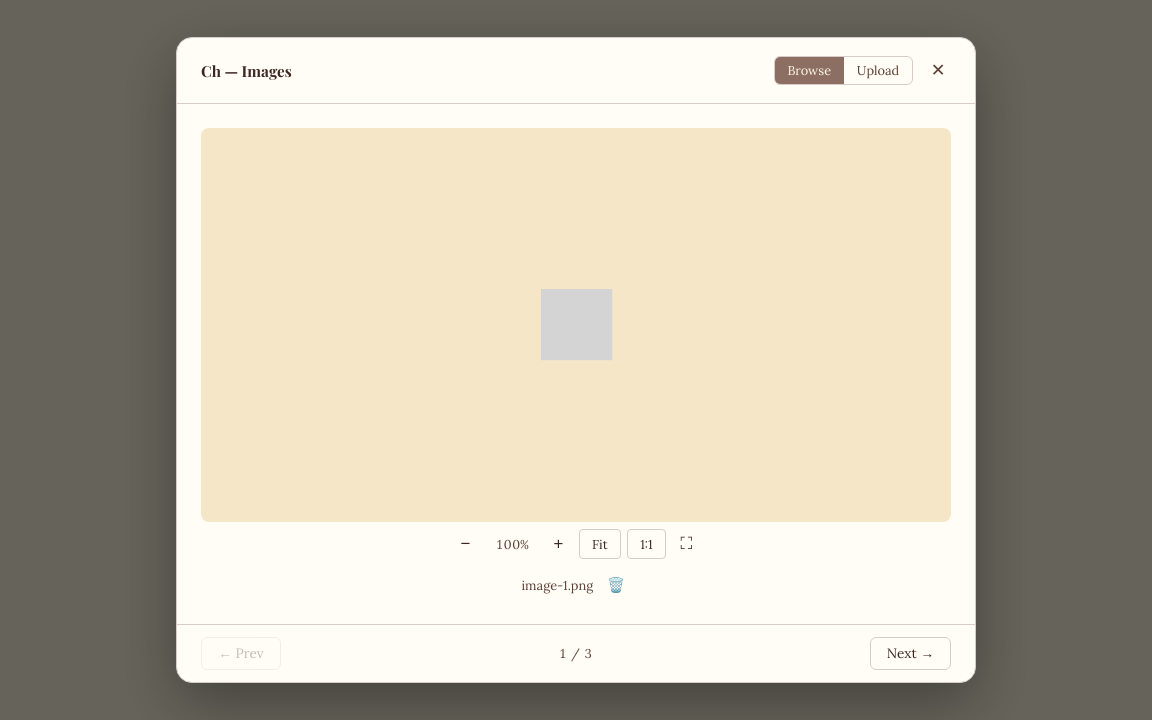
Scenario: ChapterImageViewer › keeps the current position when a deleted image was not the last one
This screenshot has width=1152, height=720.
Expected: the text "image-1.png" is shown, [522,577,593,594]
Click the button titled "Delete image": point(616, 586) [601,572,630,600]
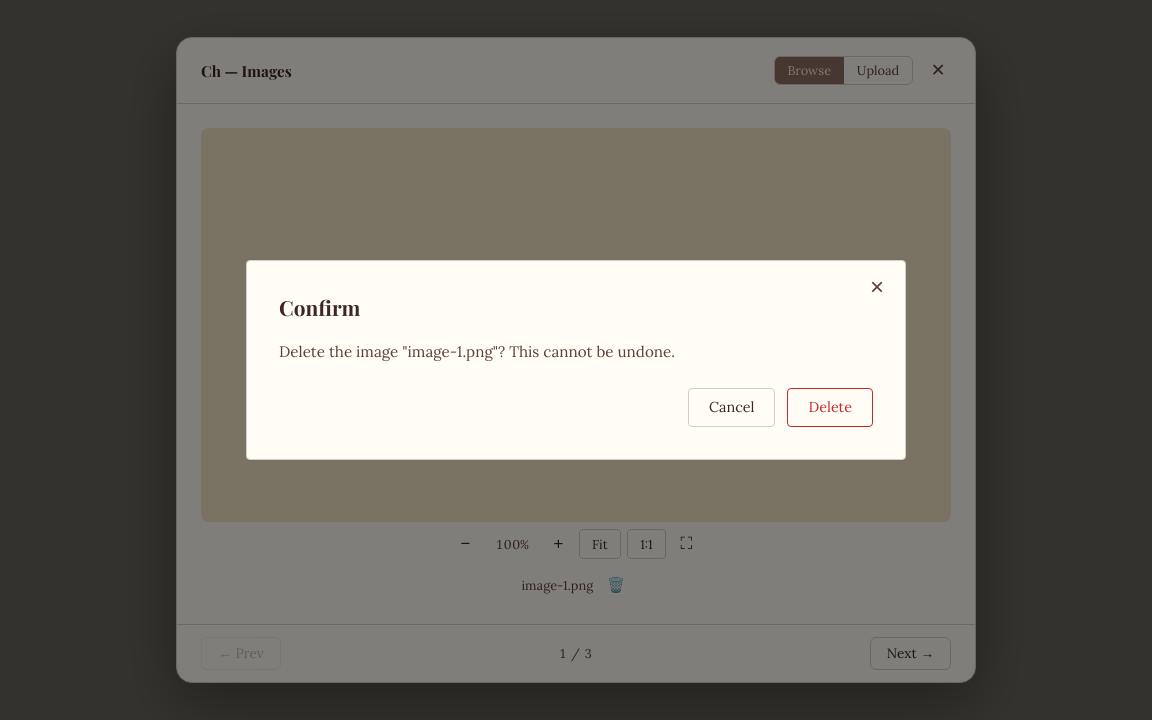
Click the button "Delete": point(830, 407) [788,388,873,427]
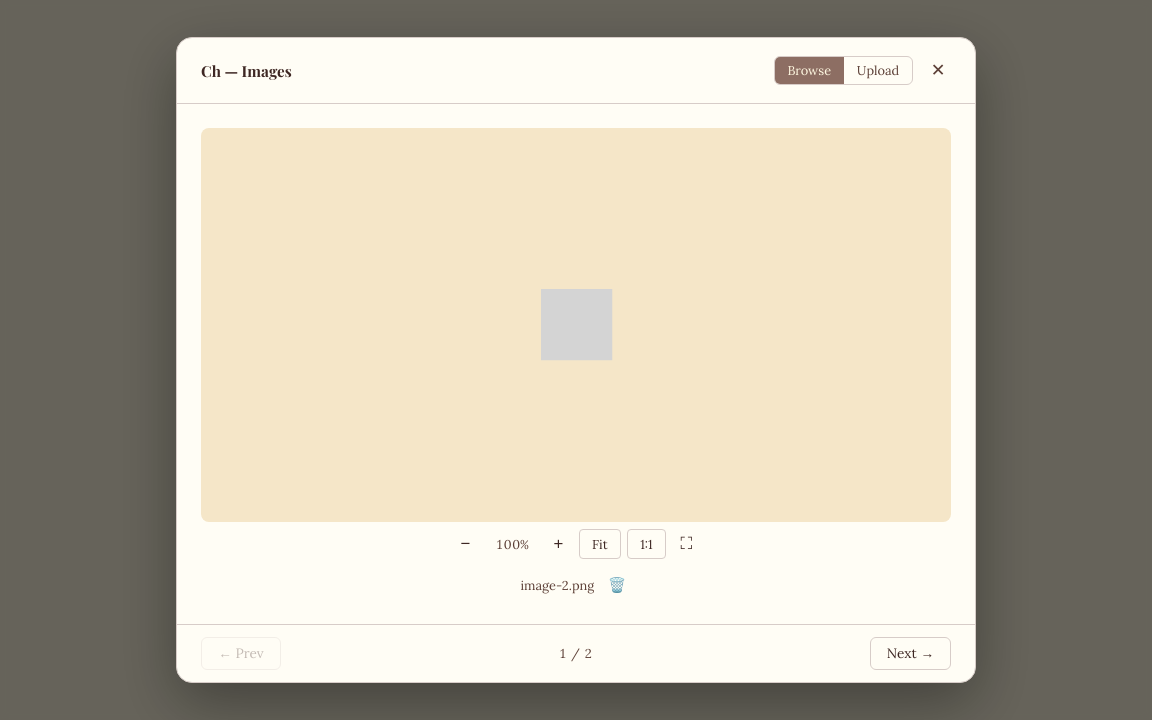
Result: the text "image-2.png" is shown at [520,577,594,594]
Result: the text "1 / 2" is shown at [558,645,592,662]
